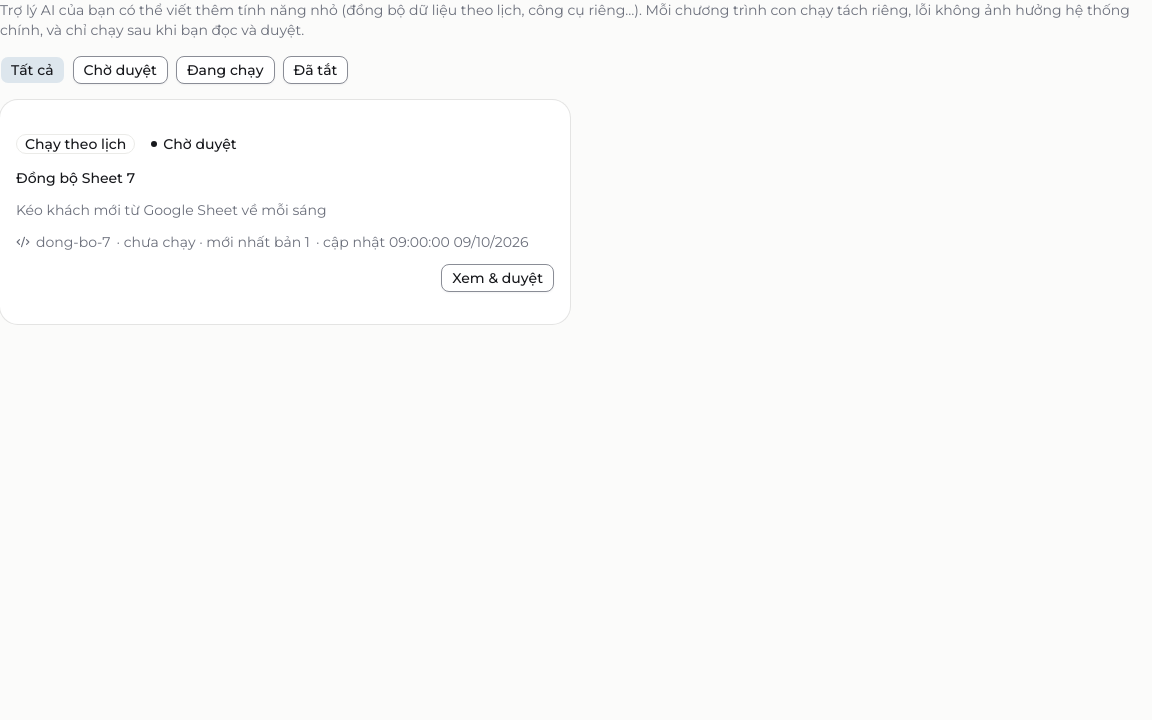
Test case: <ExtensionsScreen> › lỗi từ BE hiện NGUYÊN VĂN; tab Nhật ký liệt kê các lần chạy
Click the button "Xem & duyệt" at (498, 278), box 441,264 -> 554,292
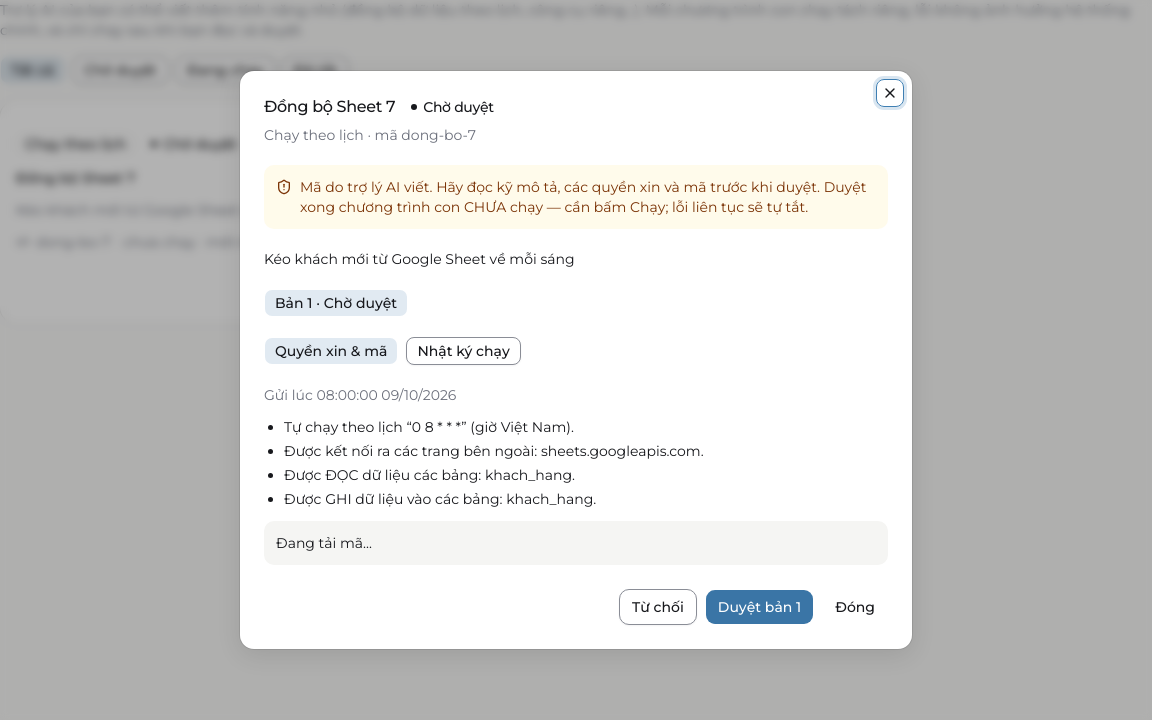
Click the button "Duyệt bản 1" at (760, 607), box 705,589 -> 814,625
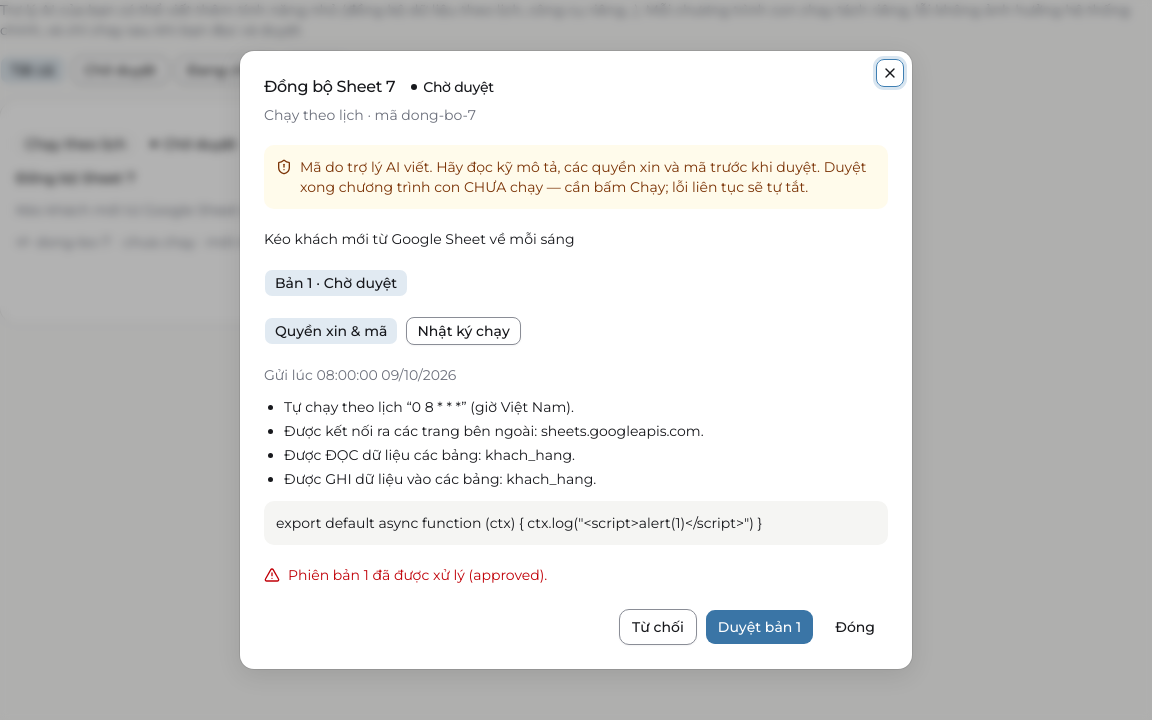
Expected: the text "Phiên bản 1 đã được xử lý (approved)." is shown, 288,565 -> 547,585
Click the button "Nhật ký chạy" at (464, 331), box 406,317 -> 521,345
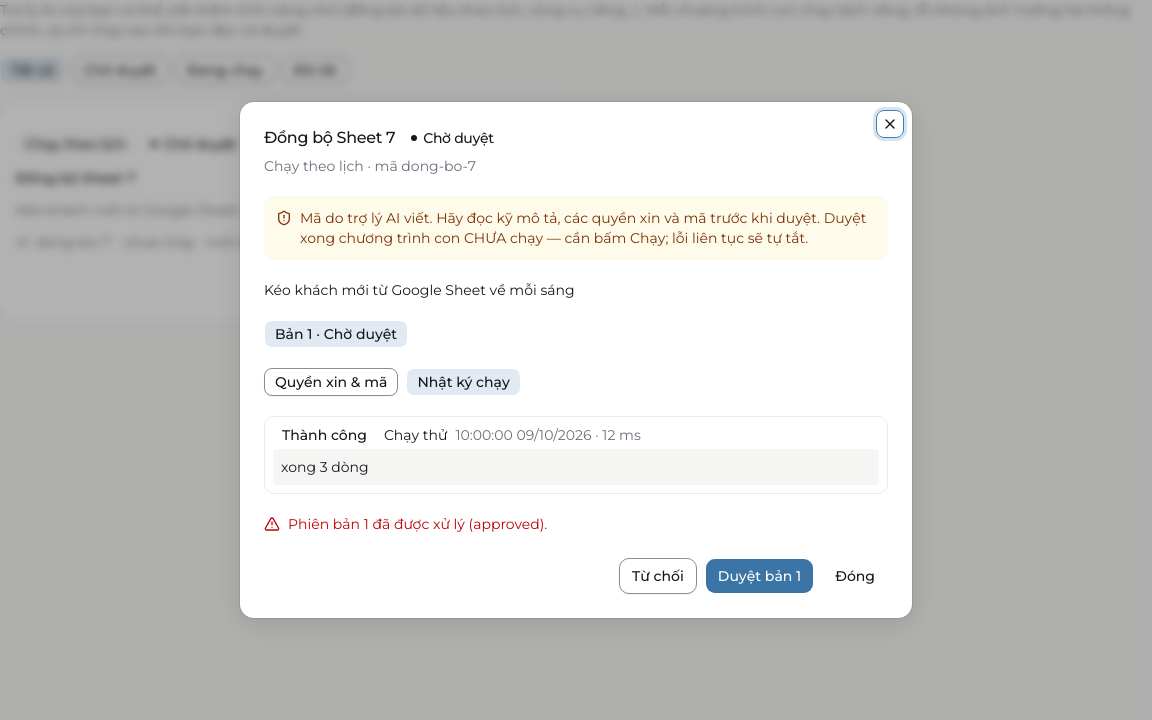
Expected: the list with test id "extension-runs" shows "Chạy thử", 384,426 -> 447,444
Expected: the text "xong 3 dòng" is shown, 273,449 -> 879,485
